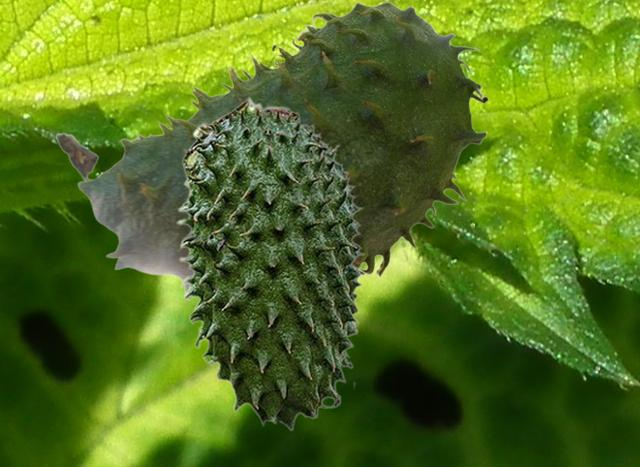guyabano: (55, 1, 488, 291), (176, 96, 366, 430)
